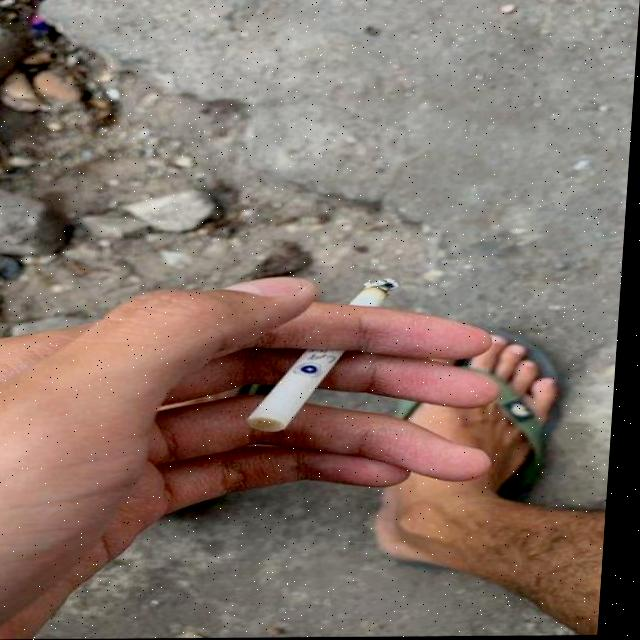cigarette: (253, 280, 402, 432)
